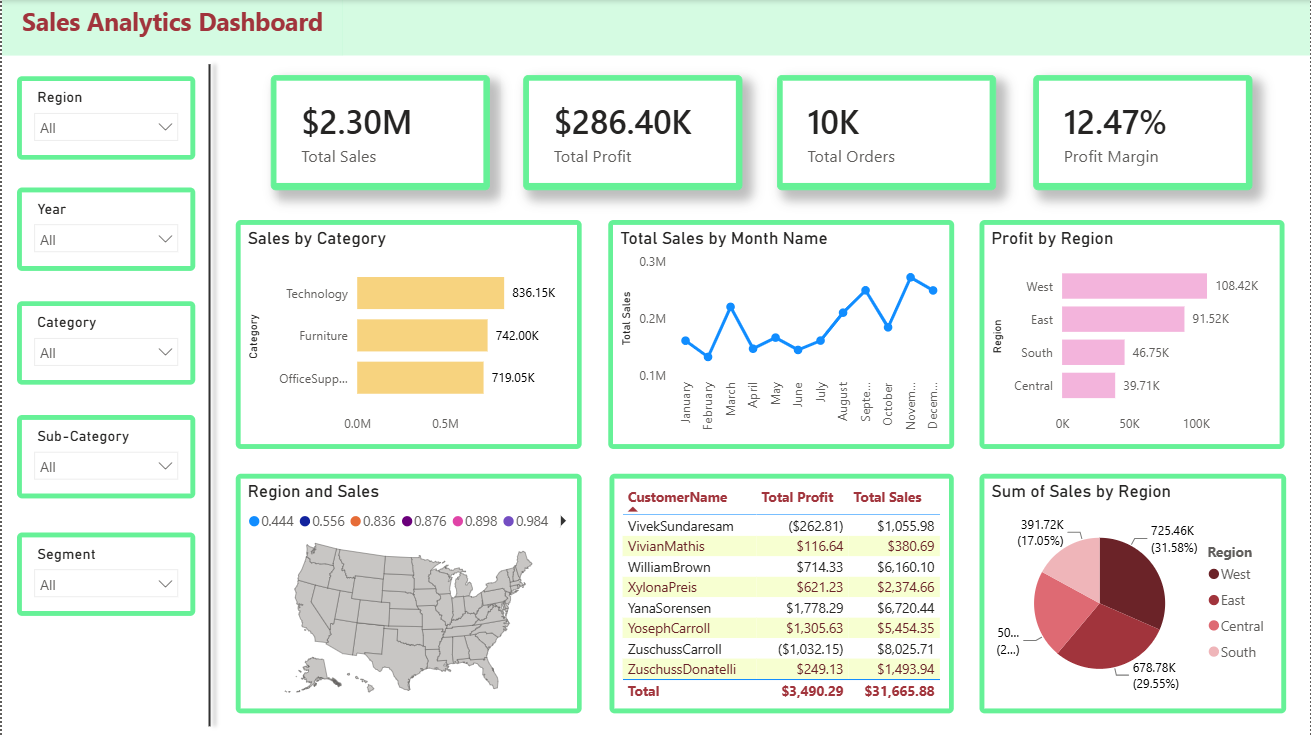

The dashboard page shown, as its layout file describes it:
{"tool":"powerbi","page":{"name":"Page 1","canvas":[1280,720],"ordinal":0},"visuals":[{"type":"cardVisual","fields":{"Data":["Sample - Superstore.Total Sales"]},"box":[262.9,73.3,214.3,112.9],"z":0},{"type":"cardVisual","fields":{"Data":["Sample - Superstore.Total Profit"]},"box":[510,73.3,214.3,112.9],"z":1000},{"type":"cardVisual","fields":{"Data":["Sample - Superstore.Total Orders"]},"box":[758.6,73.3,214.3,112.9],"z":2000},{"type":"cardVisual","fields":{"Data":["Sample - Superstore.Profit Margin"]},"box":[1008.6,73.3,214.3,112.9],"z":3000},{"type":"clusteredBarChart","title":"Sales by Category","fields":{"Category":["Sample - Superstore.Category"],"Y":["Sum(Sample - Superstore.Sales)"]},"box":[228.5,215.7,338.6,224.3],"z":4000},{"type":"lineChart","fields":{"Category":["Sample - Superstore.Month Name"],"Y":["Sample - Superstore.Total Sales"]},"box":[592.9,215.7,338.6,224.3],"z":5000},{"type":"clusteredBarChart","title":"Profit by Region","fields":{"Category":["Sample - Superstore.Region"],"Y":["Sum(Sample - Superstore.Profit)"]},"box":[955.7,215.3,298.6,224.3],"z":6000},{"type":"shapeMap","fields":{"Category":["Sample - Superstore.Region"],"Series":["Sample - Superstore.Sales"]},"box":[228.5,462.9,338,234.3],"z":7000},{"type":"pieChart","title":"Sales by Region","fields":{"Y":["Sum(Sample - Superstore.Sales)"],"Category":["Sample - Superstore.Region"]},"box":[955.7,462.9,300,234.3],"z":8000},{"type":"tableEx","fields":{"Values":["Sample - Superstore.CustomerName","Sample - Superstore.Total Profit","Sample - Superstore.Total Sales"]},"box":[594.3,462.9,337.1,234.3],"z":9000},{"type":"slicer","fields":{"Values":["Sample - Superstore.Region"]},"box":[14.3,75.1,174.3,81.4],"z":10000},{"type":"slicer","fields":{"Values":["Date.Year"]},"box":[14.3,183.7,174.3,81.4],"z":11000},{"type":"slicer","fields":{"Values":["Sample - Superstore.Category"]},"box":[14.3,295.1,174.3,81.4],"z":12000},{"type":"slicer","fields":{"Values":["Sample - Superstore.Sub-Category"]},"box":[14.3,406.6,174.3,81.4],"z":13000},{"type":"slicer","fields":{"Values":["Sample - Superstore.Segment"]},"box":[14.3,520.8,174.3,81.4],"z":14000},{"type":"shape","box":[332.9,0,947.1,54.3],"z":15000},{"type":"textbox","box":[0,0,332.9,54.3],"z":16000},{"type":"shape","box":[177.1,54.3,51.4,665.7],"z":17000}]}

Visuals, with their boxes in screenshot pixels (x1, y1, x2, y2), scaled from the page's 1280x720 canvas onto the 1311x736 screenshot:
cardVisual - Sample - Superstore.Total Sales: Rect(269, 75, 489, 190)
cardVisual - Sample - Superstore.Total Profit: Rect(522, 75, 742, 190)
cardVisual - Sample - Superstore.Total Orders: Rect(777, 75, 996, 190)
cardVisual - Sample - Superstore.Profit Margin: Rect(1033, 75, 1253, 190)
"Sales by Category" clusteredBarChart: Rect(234, 220, 581, 450)
lineChart - Sample - Superstore.Month Name x Sample - Superstore.Total Sales: Rect(607, 220, 954, 450)
"Profit by Region" clusteredBarChart: Rect(979, 220, 1285, 449)
shapeMap - Sample - Superstore.Region x Sample - Superstore.Sales: Rect(234, 473, 580, 713)
"Sales by Region" pieChart: Rect(979, 473, 1286, 713)
tableEx - Sample - Superstore.CustomerName x Sample - Superstore.Total Profit: Rect(609, 473, 954, 713)
slicer - Sample - Superstore.Region: Rect(15, 77, 193, 160)
slicer - Date.Year: Rect(15, 188, 193, 271)
slicer - Sample - Superstore.Category: Rect(15, 302, 193, 385)
slicer - Sample - Superstore.Sub-Category: Rect(15, 416, 193, 499)
slicer - Sample - Superstore.Segment: Rect(15, 532, 193, 616)
shape: Rect(341, 0, 1310, 56)
textbox: Rect(0, 0, 341, 56)
shape: Rect(181, 56, 234, 735)
